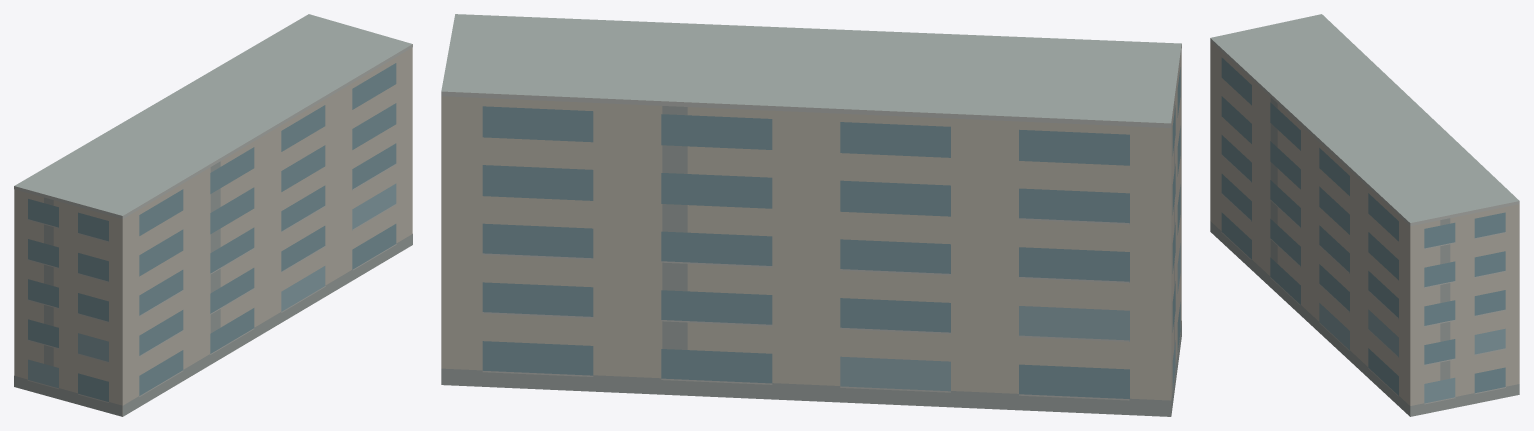
The model's file is survey-upis-32571346.glb.
3 renders of one model, left to right at view 1: azimuth 30°, elevation 25°; view 2: azimuth 150°, elevation 25°; view 3: azimuth 270°, elevation 25°, orthographic. The views are drawn at different scales.
Parts seen in each view (by area): view 1: survey-upis-32571346.tmp; view 2: survey-upis-32571346.tmp; view 3: survey-upis-32571346.tmp.
Boxes of the visible parts, x1,y1,x2,y2 form: survey-upis-32571346.tmp: (14,14,412,416); survey-upis-32571346.tmp: (441,14,1181,416); survey-upis-32571346.tmp: (1210,14,1519,416).
Size of the model in its own units: 35.31 by 15.25 by 22.08.
